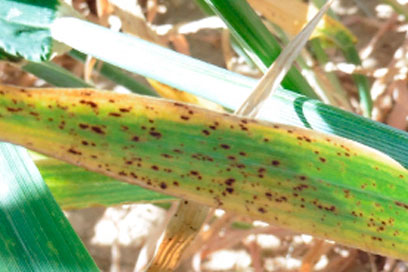Bercak Coklat: (88, 122, 111, 140), (176, 111, 194, 125), (265, 156, 282, 169), (145, 129, 164, 140), (115, 105, 137, 114), (314, 155, 333, 165), (127, 132, 144, 143), (200, 125, 211, 141), (235, 145, 246, 160), (219, 140, 231, 153)
